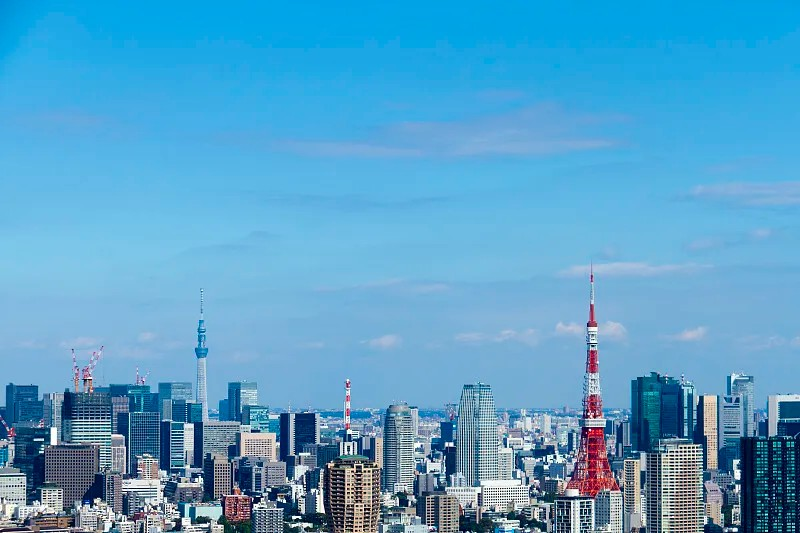Tokyo: (562, 260, 618, 494)
